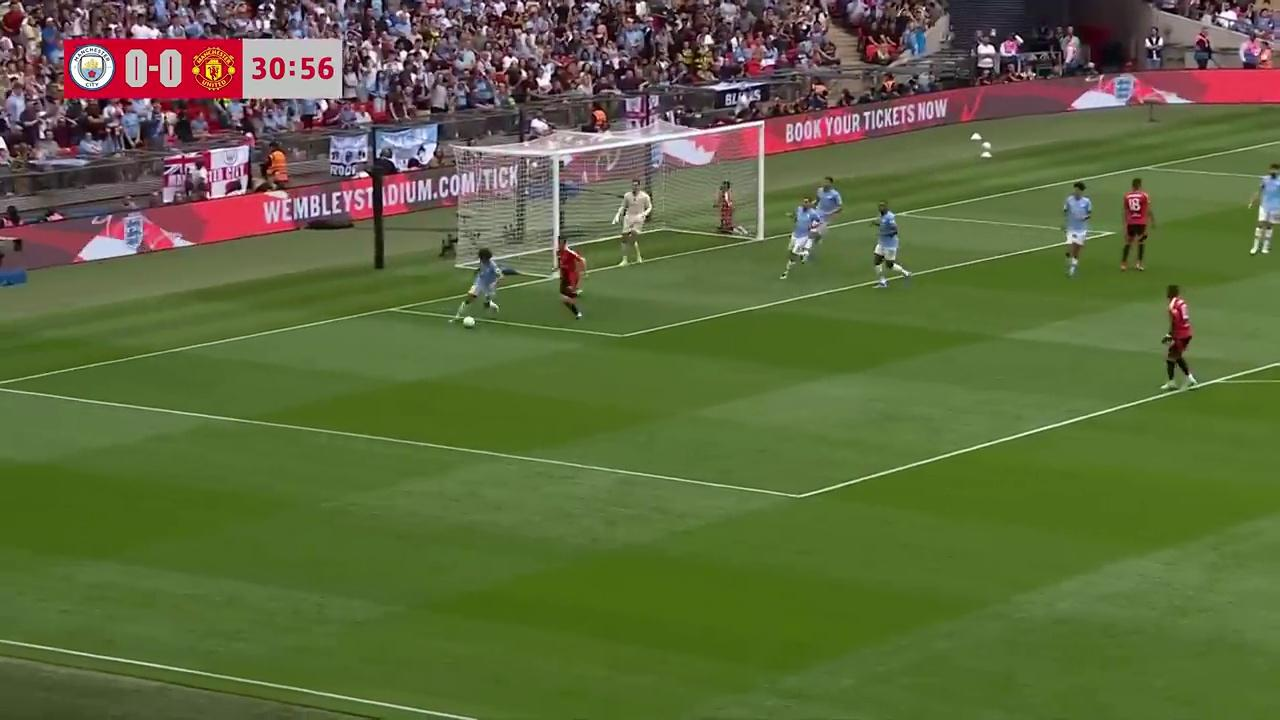ball: (461, 312, 477, 329)
player: (1160, 285, 1197, 391), (779, 198, 822, 280), (1120, 179, 1155, 271), (873, 201, 910, 288), (1247, 165, 1278, 256), (613, 185, 648, 265), (458, 252, 501, 317), (1062, 183, 1091, 277), (557, 242, 587, 318), (712, 181, 743, 237), (812, 177, 842, 233)
